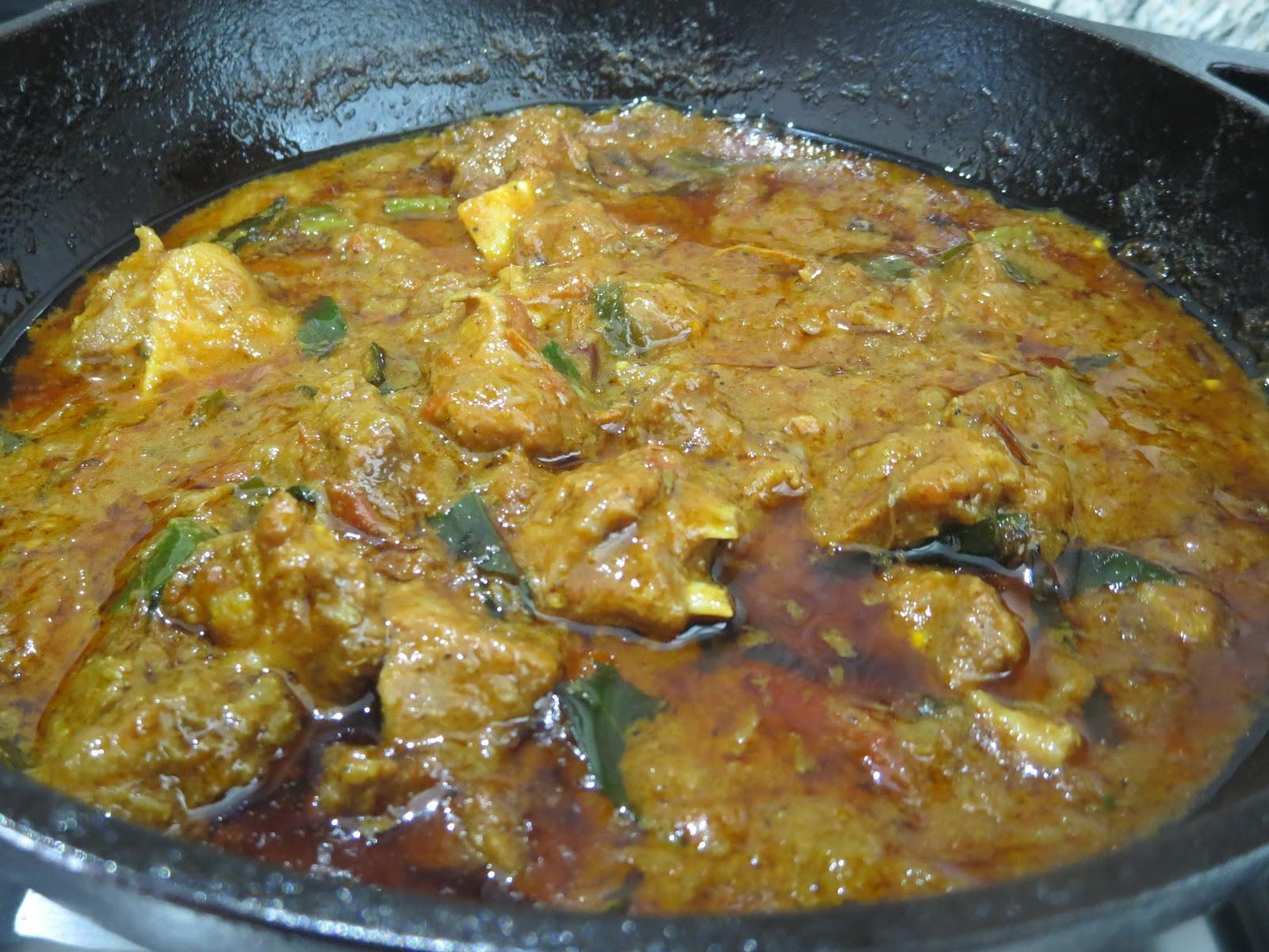MuttonCurry: (0, 95, 1269, 915)
